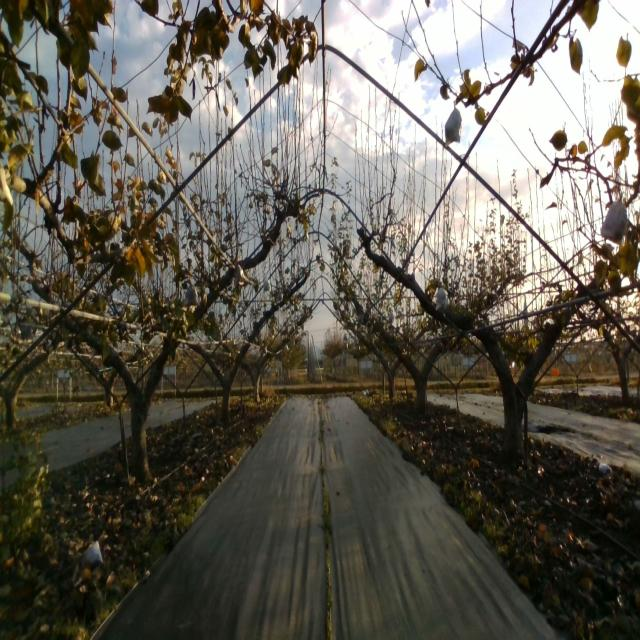pearbags: (600, 191, 627, 246), (445, 101, 461, 147), (182, 284, 200, 307), (233, 264, 249, 286), (435, 287, 448, 311)
